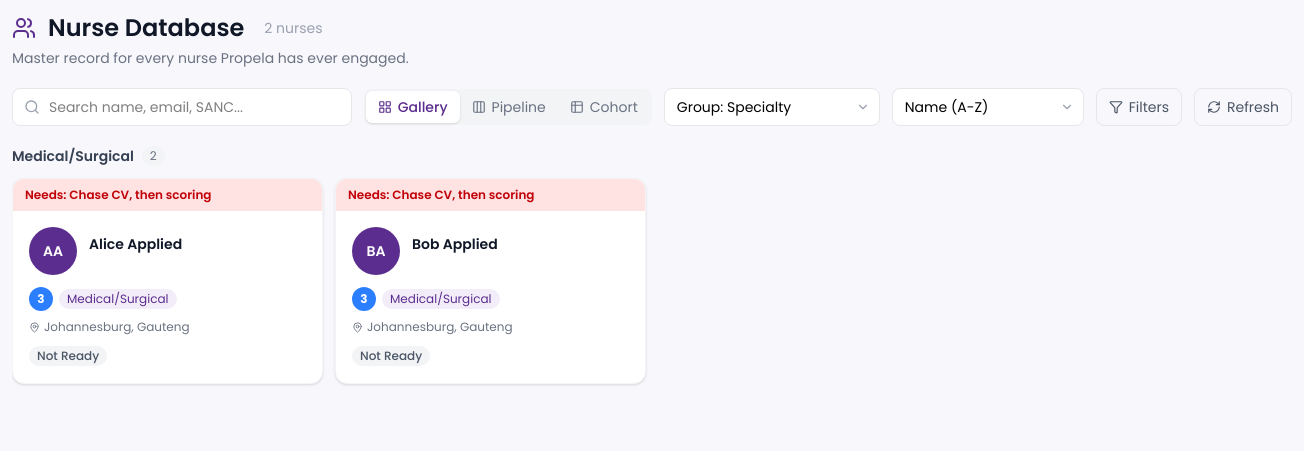
it: Filter and search integration tests › Filter updates displayed results › no results when filter matches no nurses
Note: Search for something that does not exist
Type "zzzznonexistent" into the field with placeholder "Search name, email, SANC...".
click(182, 107); type("zzzznonexistent")  # box [12,88,352,126]
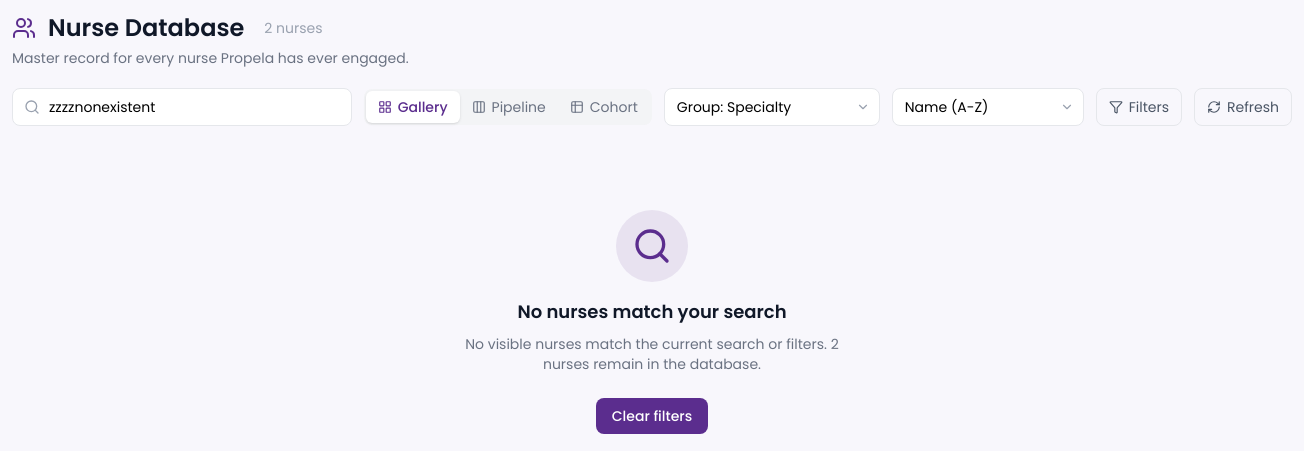
Check: the text "Alice Applied" is gone
Check: the text "Bob Applied" is gone
